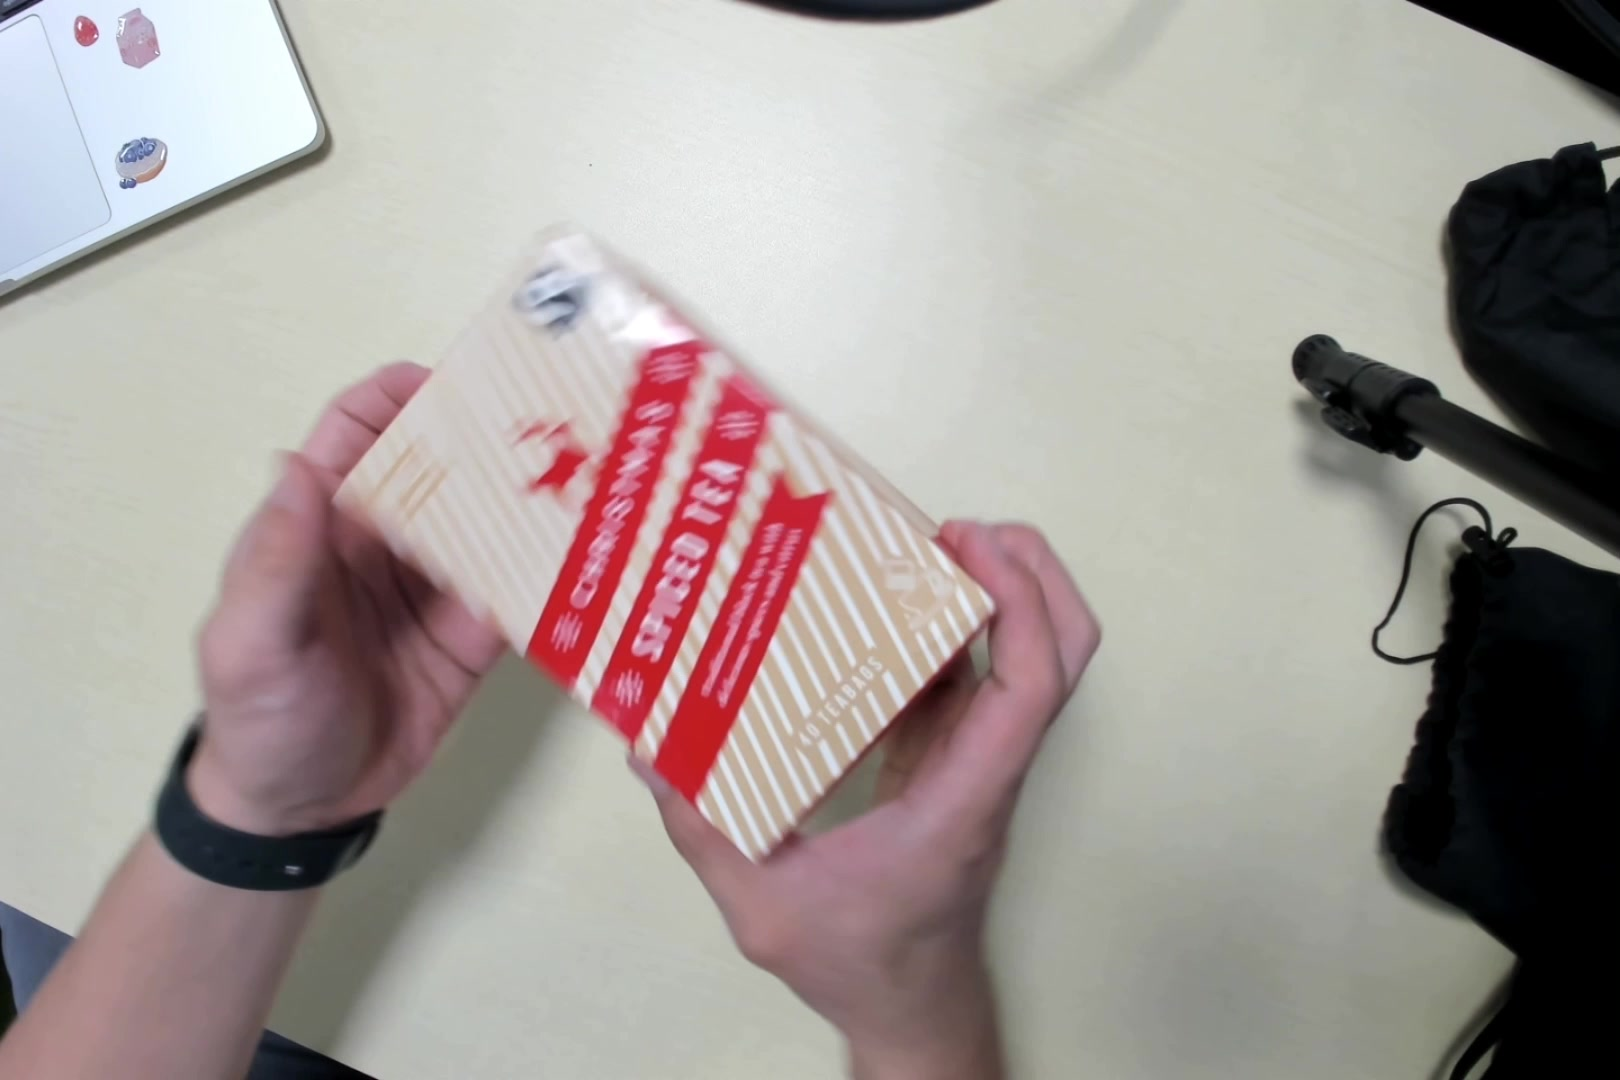Tea(PowderLeaves)_100-199g_Halal_NonHealthy: (337, 228, 1002, 857)
